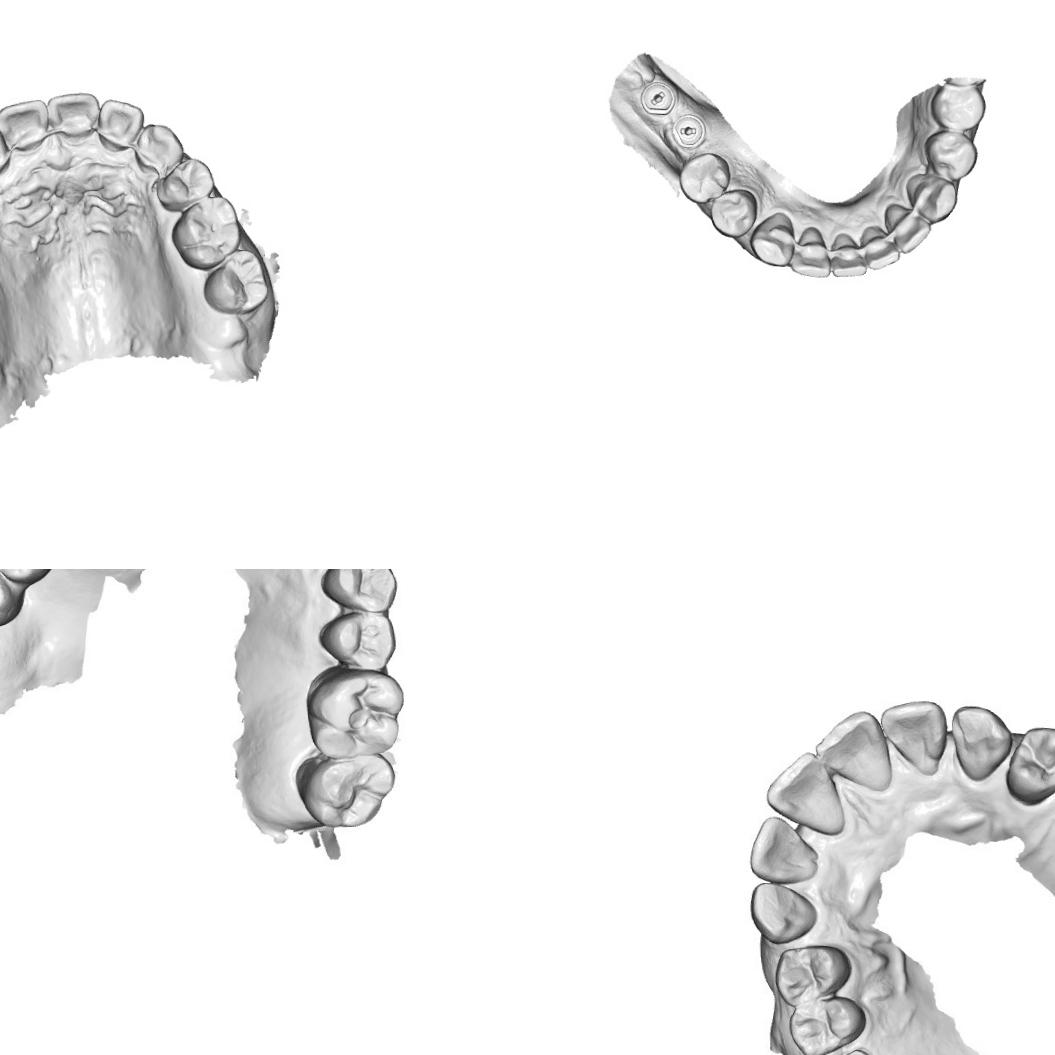canine: (948, 699, 1016, 783), (746, 879, 819, 945), (903, 172, 961, 226), (132, 121, 186, 178), (746, 210, 796, 269)
implant_minus: (668, 112, 708, 151), (638, 79, 678, 118)
incisor: (762, 750, 846, 836), (811, 708, 891, 792), (879, 696, 948, 781), (749, 817, 822, 883), (45, 90, 101, 144), (95, 96, 145, 155), (882, 201, 934, 256), (788, 222, 833, 280), (0, 97, 48, 150), (858, 222, 904, 272), (829, 230, 867, 280)
molar: (296, 758, 404, 832), (308, 675, 400, 760), (168, 194, 243, 273), (201, 247, 272, 316), (0, 569, 19, 633)
premolar: (783, 994, 868, 1055), (771, 942, 852, 1006), (315, 608, 394, 668), (1001, 725, 1055, 808), (154, 156, 217, 210), (317, 569, 394, 613), (676, 150, 734, 206), (926, 80, 988, 132), (921, 130, 980, 184), (706, 186, 759, 241)
